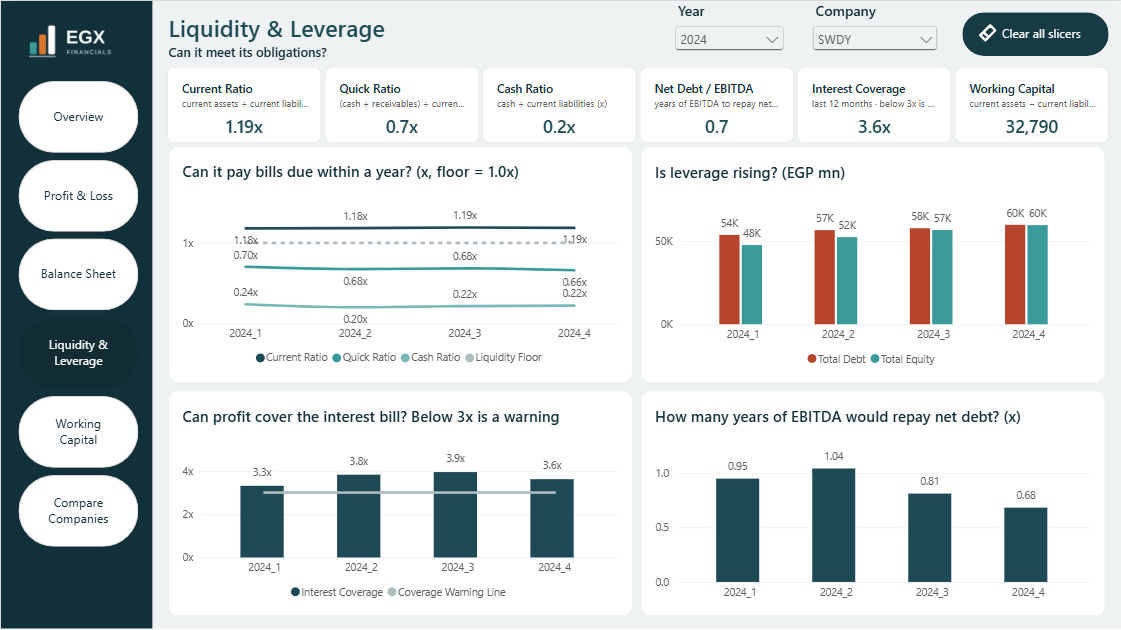

The page's visual inventory and layout, read from the dashboard file:
{"tool":"powerbi","page":{"name":"Liquidity & Leverage","canvas":[1280,720],"ordinal":3},"visuals":[{"type":"slicer","fields":{"Values":["DimCalendar.Year"]},"box":[765,0,133.8,75],"z":0},{"type":"slicer","fields":{"Values":["DimCompany.Company"]},"box":[922.5,0,152.5,75],"z":1000},{"type":"actionButton","box":[1098.8,12.5,167.5,50],"z":2000},{"type":"pageNavigator","box":[20,91.2,137.5,537.5],"z":3000},{"type":"image","box":[24,14,125,60],"z":4000},{"type":"textbox","box":[192,12.5,560,56],"z":5000}]}

Visuals, with their boxes in screenshot pixels (x1, y1, x2, y2), scaled from the page's 1280x720 canvas onto the 1121x630 screenshot:
slicer - DimCalendar.Year: detection(670, 0, 787, 66)
slicer - DimCompany.Company: detection(808, 0, 941, 66)
actionButton: detection(962, 11, 1109, 55)
pageNavigator: detection(18, 80, 138, 550)
image: detection(21, 12, 130, 65)
textbox: detection(168, 11, 659, 60)
